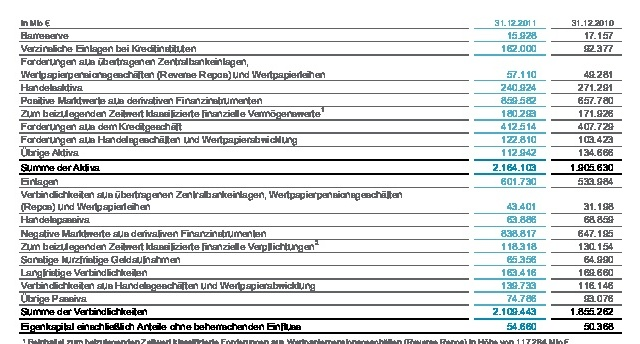table: (0, 0, 640, 344)
